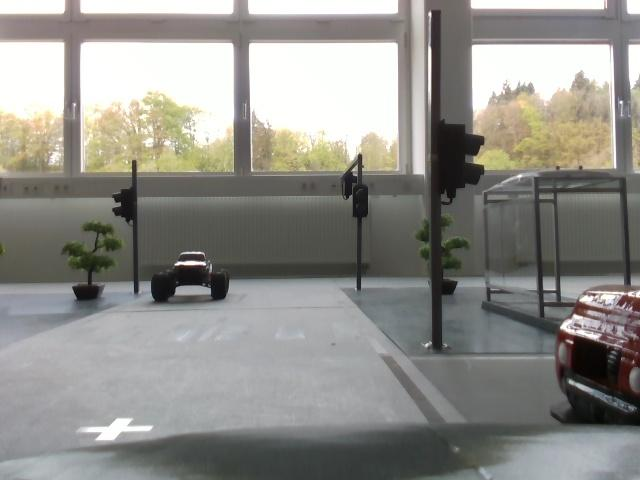car: (555, 288, 640, 426), (141, 246, 239, 315)
potted plant: (62, 216, 128, 306), (419, 210, 469, 301)
traffic light: (436, 127, 485, 193), (111, 183, 143, 223), (350, 183, 377, 221), (340, 172, 360, 203)
